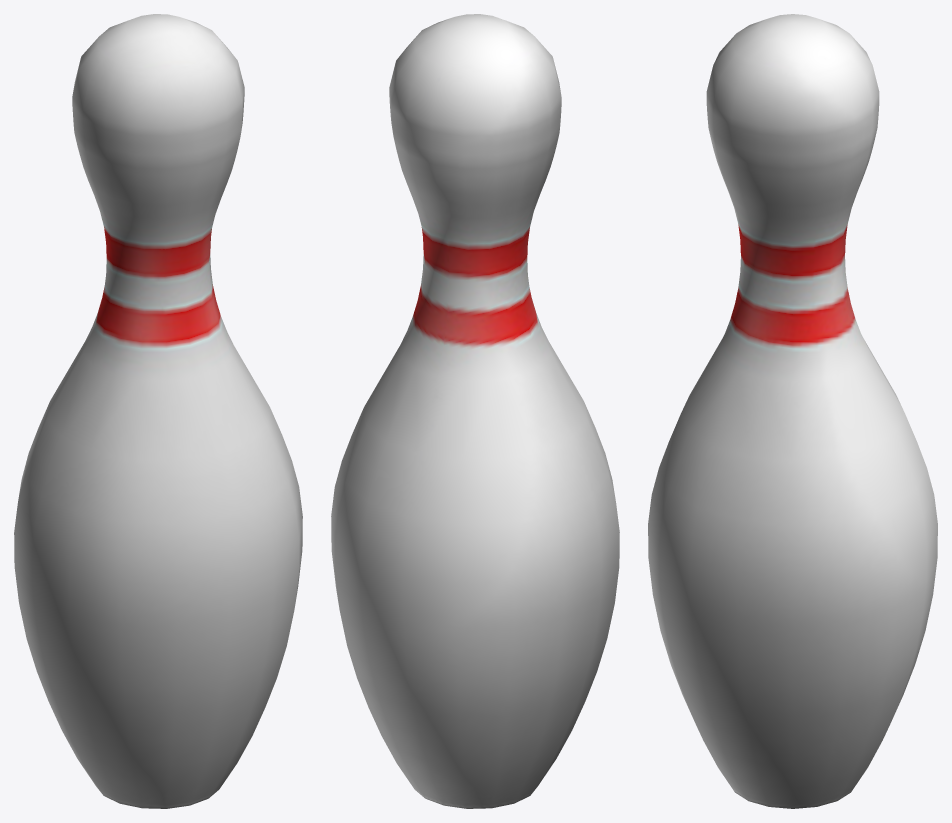
The model's file is BallPin.fbx.
3 views of the same model, side by side, from view 1: azimuth 30°, elevation 25°; view 2: azimuth 150°, elevation 25°; view 3: azimuth 270°, elevation 25° (orthographic).
Visible parts, largest first — view 1: Newpin; view 2: Newpin; view 3: Newpin.
Part boxes in pixels (x1,y1,x2,y2): Newpin: [14, 14, 302, 808]; Newpin: [331, 14, 619, 808]; Newpin: [648, 14, 937, 808].
Size of the model in its own units: 54.76 by 158 by 54.52.
Materials: 1 (1 with a texture image).
